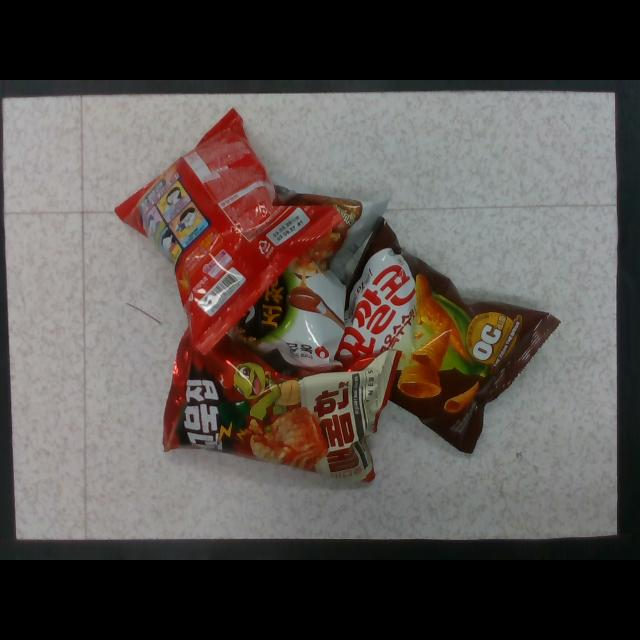bongji: (305, 214, 556, 448), (116, 109, 344, 352), (163, 334, 400, 482), (216, 185, 388, 382), (184, 151, 228, 182)
